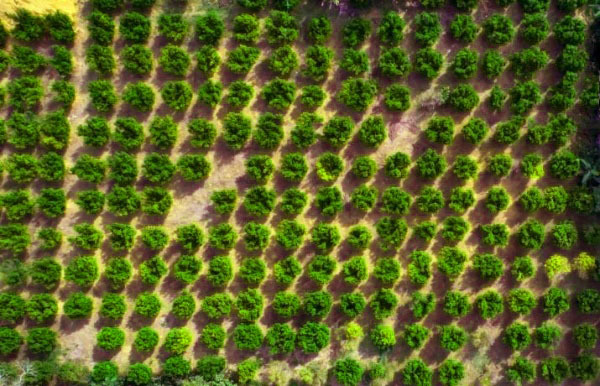TREE: (339, 79, 378, 111), (264, 10, 299, 45), (4, 361, 54, 385), (292, 112, 322, 148), (65, 258, 99, 288), (175, 154, 211, 182), (223, 114, 251, 150), (8, 111, 34, 149), (1, 190, 36, 218), (43, 110, 68, 149), (551, 149, 582, 180), (110, 155, 140, 187), (9, 75, 38, 108), (72, 155, 105, 184), (108, 187, 142, 215), (256, 113, 284, 147), (69, 225, 104, 252), (305, 45, 331, 81), (1, 224, 31, 255), (120, 12, 151, 42), (417, 150, 448, 180), (124, 83, 156, 112), (324, 116, 353, 148), (414, 186, 446, 215), (265, 322, 294, 354), (144, 154, 177, 182), (114, 119, 144, 149), (88, 81, 119, 110), (512, 81, 543, 110), (79, 118, 111, 146), (317, 152, 344, 185), (440, 247, 467, 280), (551, 76, 577, 110), (33, 259, 62, 289), (264, 81, 293, 111), (246, 187, 275, 217), (383, 185, 412, 215), (509, 355, 539, 384), (90, 11, 115, 45), (378, 10, 403, 44), (416, 12, 441, 46), (408, 251, 433, 285), (402, 357, 431, 386), (502, 321, 531, 350), (27, 296, 57, 324), (245, 155, 275, 183), (28, 328, 55, 359), (163, 81, 194, 108), (90, 46, 117, 77), (161, 48, 192, 75), (227, 47, 258, 74), (149, 119, 177, 148), (450, 84, 479, 112), (316, 188, 345, 216), (300, 324, 329, 352), (15, 11, 42, 41), (38, 152, 65, 182), (342, 47, 369, 77), (516, 49, 546, 76), (381, 219, 408, 249), (197, 12, 223, 43), (417, 48, 443, 79), (489, 16, 515, 47), (361, 116, 387, 147), (427, 115, 453, 146), (480, 222, 511, 248), (270, 48, 298, 76), (371, 291, 400, 318), (556, 17, 586, 43), (211, 189, 241, 215), (122, 47, 153, 72), (474, 254, 505, 279), (107, 259, 131, 291), (189, 121, 217, 148), (451, 14, 479, 41), (508, 288, 536, 315), (544, 289, 571, 317), (282, 153, 308, 182), (536, 321, 562, 350), (40, 188, 65, 218), (61, 361, 91, 386), (344, 16, 369, 46), (202, 293, 232, 318), (10, 48, 41, 72), (46, 15, 73, 42), (160, 15, 187, 42), (464, 118, 492, 144), (550, 116, 576, 144), (450, 187, 476, 215), (209, 224, 235, 252), (238, 291, 264, 319), (308, 257, 336, 283), (334, 358, 360, 386), (474, 290, 502, 316), (381, 50, 410, 75), (496, 117, 521, 146), (575, 353, 600, 382), (312, 224, 339, 250), (375, 258, 402, 284), (573, 322, 600, 348), (8, 155, 36, 180), (163, 358, 188, 386), (384, 86, 412, 111), (1, 294, 25, 323), (354, 186, 378, 215), (51, 46, 74, 76), (560, 47, 590, 70), (197, 357, 227, 380), (176, 257, 202, 283), (144, 188, 170, 214), (522, 15, 548, 41), (272, 257, 298, 283), (142, 226, 169, 251), (234, 14, 259, 41), (282, 188, 307, 215), (208, 257, 233, 284), (544, 257, 571, 282), (93, 362, 121, 386), (199, 46, 223, 74), (385, 150, 408, 179), (548, 186, 571, 215), (367, 363, 396, 386), (574, 188, 600, 213), (340, 291, 366, 316), (264, 359, 289, 385), (229, 80, 253, 107), (272, 292, 299, 316), (304, 292, 331, 316), (438, 361, 465, 385), (300, 363, 328, 386), (76, 191, 106, 212), (53, 82, 78, 107), (521, 187, 546, 212), (445, 291, 470, 316), (344, 258, 368, 284), (371, 324, 395, 350), (454, 50, 476, 78), (247, 223, 269, 251), (280, 221, 302, 249), (1, 329, 21, 359), (101, 297, 126, 321), (141, 258, 166, 282), (110, 225, 134, 250), (339, 324, 364, 348), (443, 217, 468, 241), (554, 224, 578, 249), (136, 327, 159, 353), (440, 327, 466, 350), (543, 357, 570, 379), (519, 220, 539, 249), (66, 293, 90, 317), (411, 292, 435, 316), (309, 18, 332, 43), (484, 52, 507, 77), (352, 156, 378, 178), (235, 327, 261, 349), (575, 253, 597, 279), (174, 293, 195, 320), (127, 363, 151, 386), (178, 226, 202, 249), (522, 155, 546, 178), (242, 259, 265, 283), (348, 226, 372, 249), (100, 326, 122, 351), (136, 294, 161, 316), (167, 329, 189, 354), (302, 85, 327, 107), (487, 156, 514, 176), (455, 158, 479, 180), (487, 187, 509, 211), (204, 324, 226, 348), (2, 262, 25, 284), (406, 324, 429, 346), (511, 256, 534, 278), (528, 122, 552, 143), (202, 82, 221, 108), (580, 290, 600, 314), (238, 359, 255, 382), (415, 221, 435, 240), (42, 229, 59, 250), (492, 86, 506, 110)
